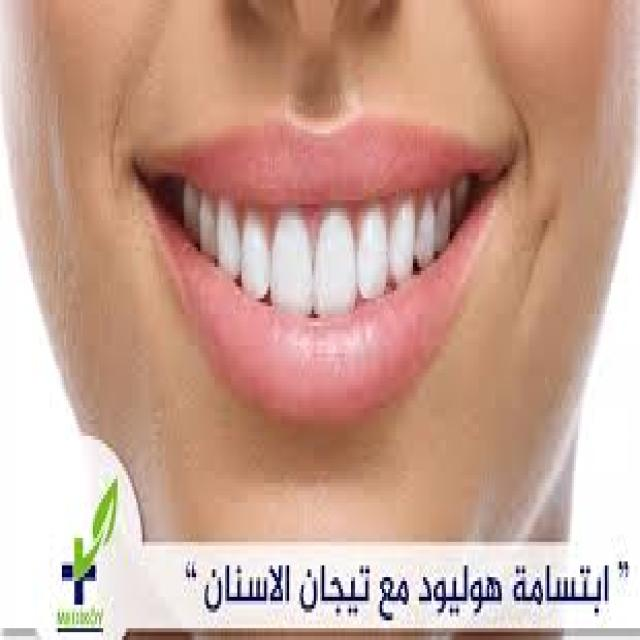tooth: (274, 224, 314, 306), (318, 236, 357, 314), (363, 212, 386, 295), (390, 208, 415, 279), (244, 216, 266, 291), (223, 212, 239, 275), (202, 197, 217, 256), (421, 200, 436, 259), (184, 180, 198, 240), (438, 184, 448, 243), (454, 185, 469, 208)
